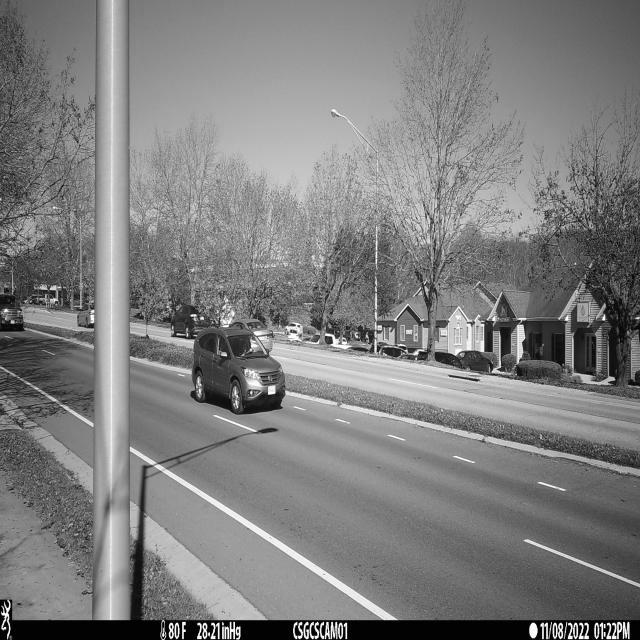SUV: (191, 323, 286, 415)
